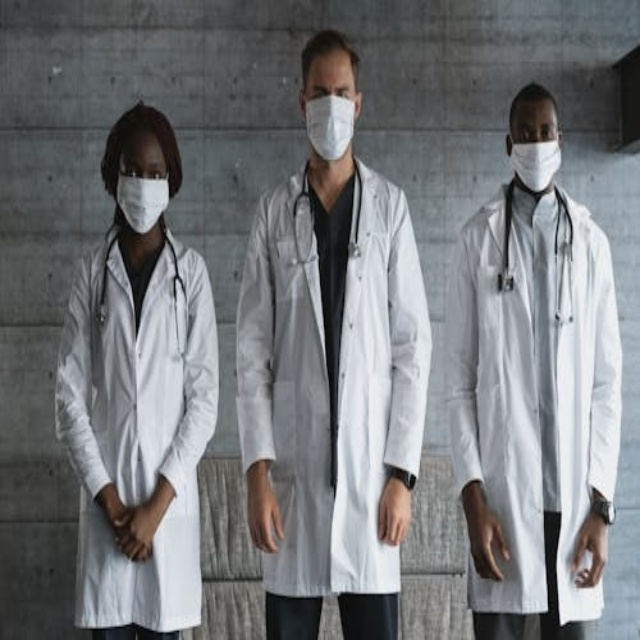Mascara: (116, 169, 170, 232), (305, 95, 356, 159), (509, 139, 561, 191)
Sin_gafas: (119, 160, 169, 185), (307, 85, 360, 102), (522, 129, 531, 142), (542, 126, 551, 139)
Sin_guantes: (462, 505, 513, 580), (372, 471, 416, 552), (109, 502, 160, 571), (239, 477, 284, 552), (575, 509, 612, 592)
